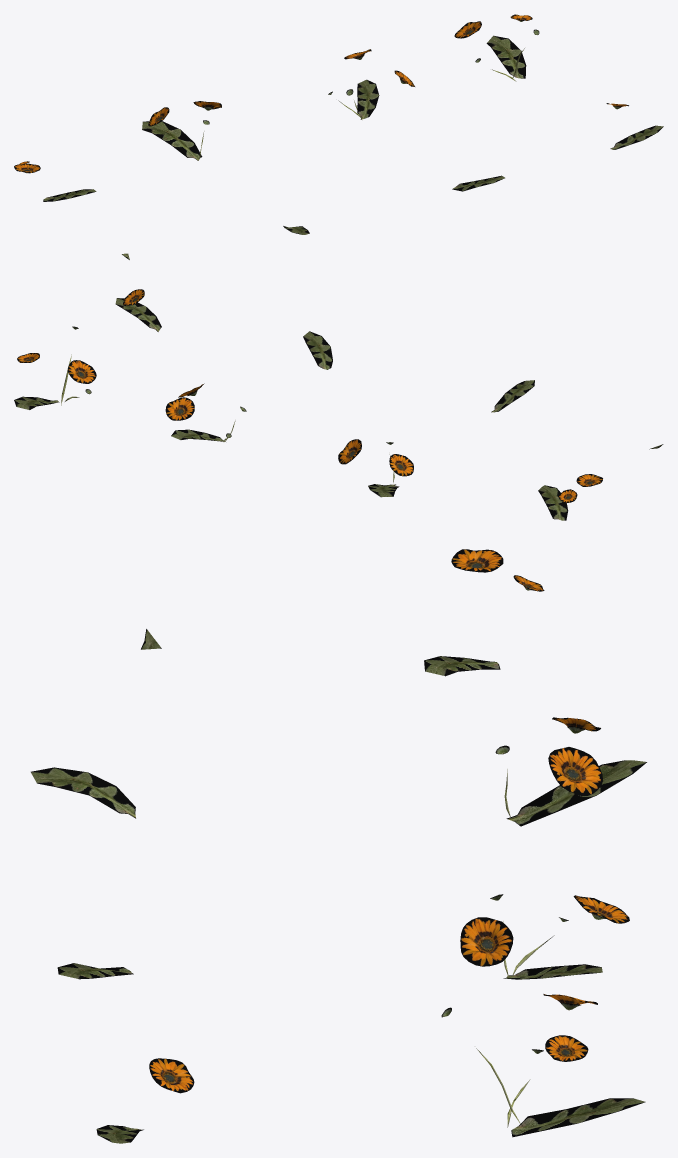
Rendered from flower_gazania.glb.
The picture shows the model from 3 angles, top to bottom: view 1: azimuth 30°, elevation 25°; view 2: azimuth 150°, elevation 25°; view 3: azimuth 270°, elevation 25°; orthographic projection. The views are drawn at different scales.
Parts seen in each view (by area): view 1: flower_gazania_a_LOD0; view 2: flower_gazania_a_LOD0; view 3: flower_gazania_a_LOD0.
Part boxes in pixels (x1=…): flower_gazania_a_LOD0: x1=14, y1=14, x2=663, y2=259; flower_gazania_a_LOD0: x1=14, y1=289, x2=663, y2=520; flower_gazania_a_LOD0: x1=31, y1=549, x2=646, y2=1143.
Bounding box in the file's own units: 1.4 × 0.1517 × 0.6735.
Materials: 1 (1 with a texture image).
